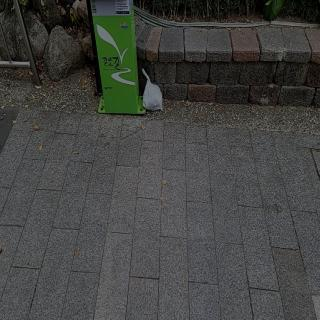Garbage: (141, 65, 166, 112)
